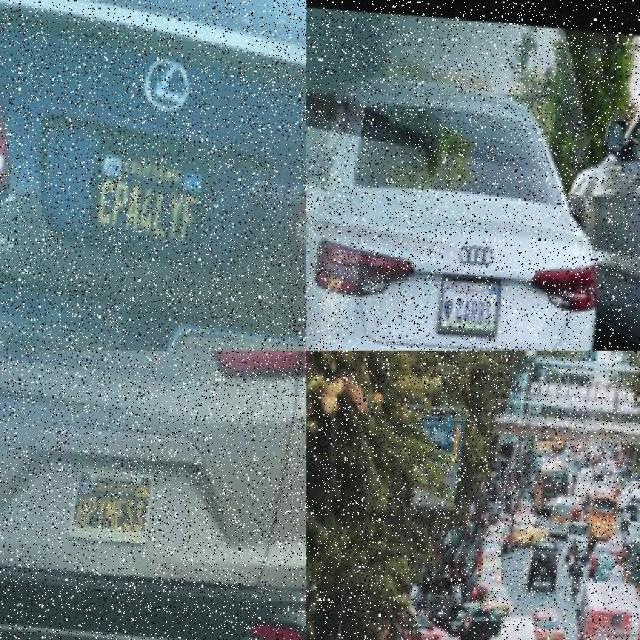licenseplate: (94, 133, 217, 247), (441, 262, 508, 330)
